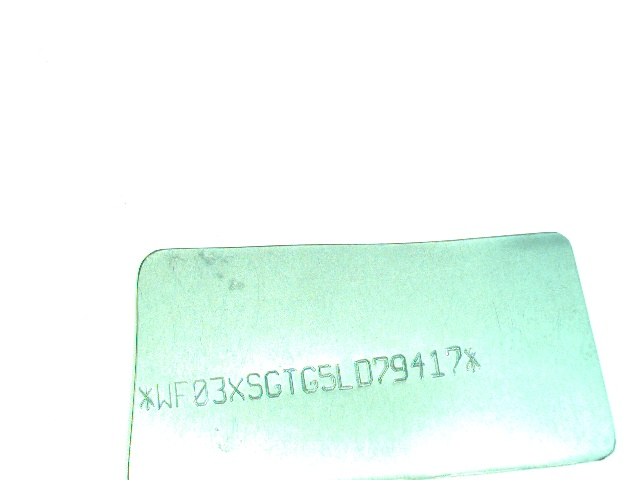0: (191, 377, 209, 408)
1: (429, 349, 446, 378)
3: (209, 376, 228, 405)
4: (410, 350, 426, 381)
5: (317, 364, 336, 392)
7: (371, 355, 390, 386), (445, 345, 461, 379)
9: (390, 353, 409, 382)
d: (354, 359, 374, 387)
f: (174, 378, 189, 409)
g: (264, 369, 283, 400), (300, 365, 318, 393)
l: (336, 363, 354, 391)
s: (246, 372, 263, 400)
t: (282, 367, 299, 395)
w: (155, 381, 174, 409)
x: (228, 376, 247, 402)
